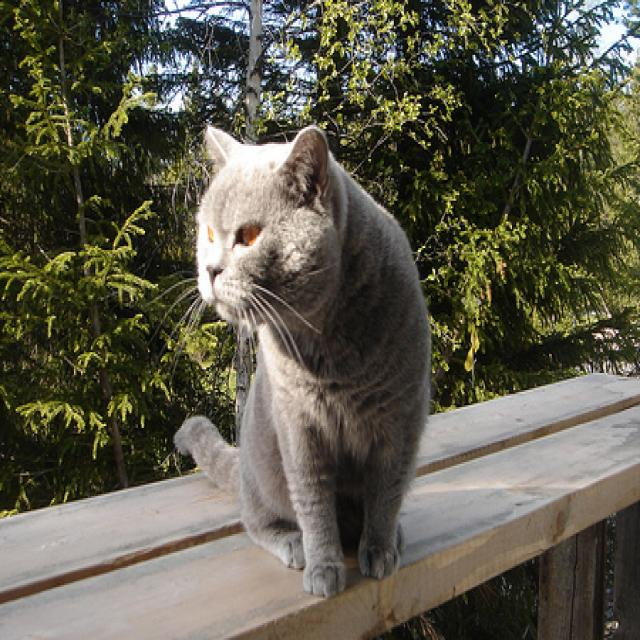British Shorthair: (170, 121, 436, 601)
